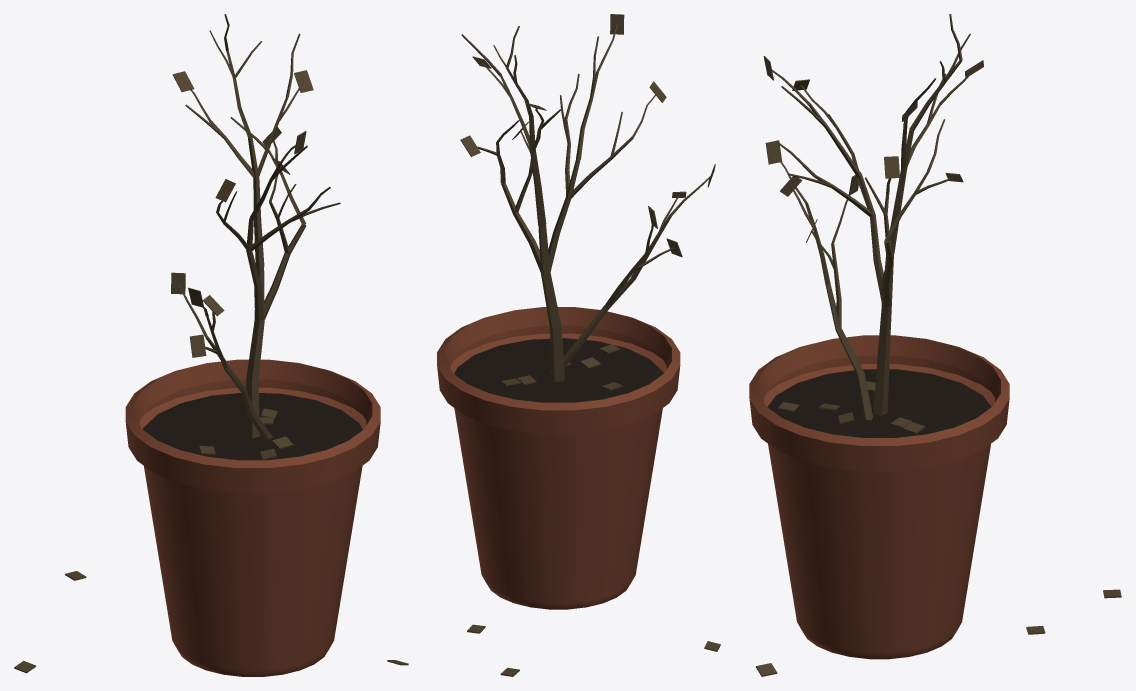
File: Plant_Pot_Dead_A.fbx
3 renders of one model, left to right at view 1: azimuth 30°, elevation 25°; view 2: azimuth 150°, elevation 25°; view 3: azimuth 270°, elevation 25°, orthographic. The views are drawn at different scales.
Parts seen in each view (by area): view 1: Plant_Pot_Dead_A_LOD0; view 2: Plant_Pot_Dead_A_LOD0; view 3: Plant_Pot_Dead_A_LOD0.
Part boxes in pixels (x1,y1,x2,y2): Plant_Pot_Dead_A_LOD0: (14, 14, 408, 676); Plant_Pot_Dead_A_LOD0: (437, 14, 720, 676); Plant_Pot_Dead_A_LOD0: (749, 14, 1121, 676).
Size of what is drawn, in the model's own units: 0.7538 by 1.39 by 0.7599.
